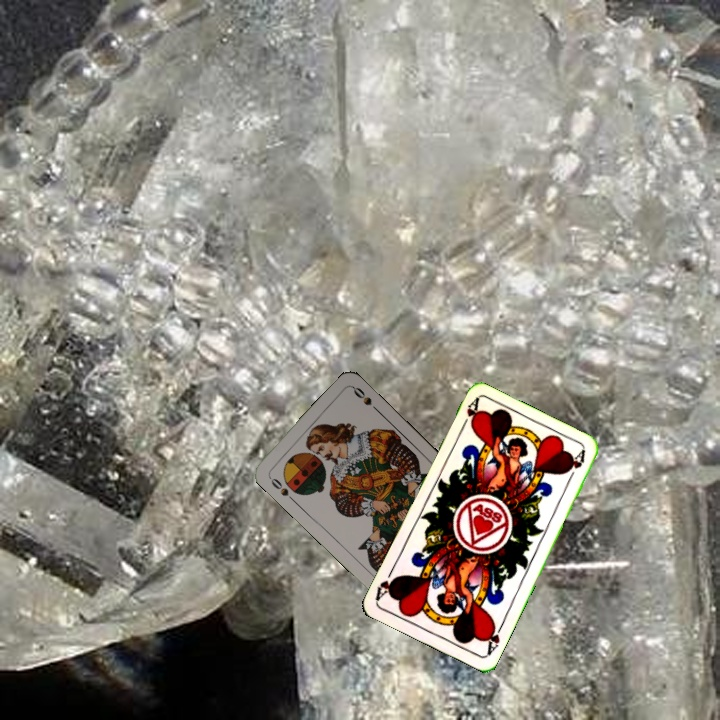HA: (456, 395, 482, 434), (481, 619, 506, 658)
SO: (265, 471, 291, 499)
